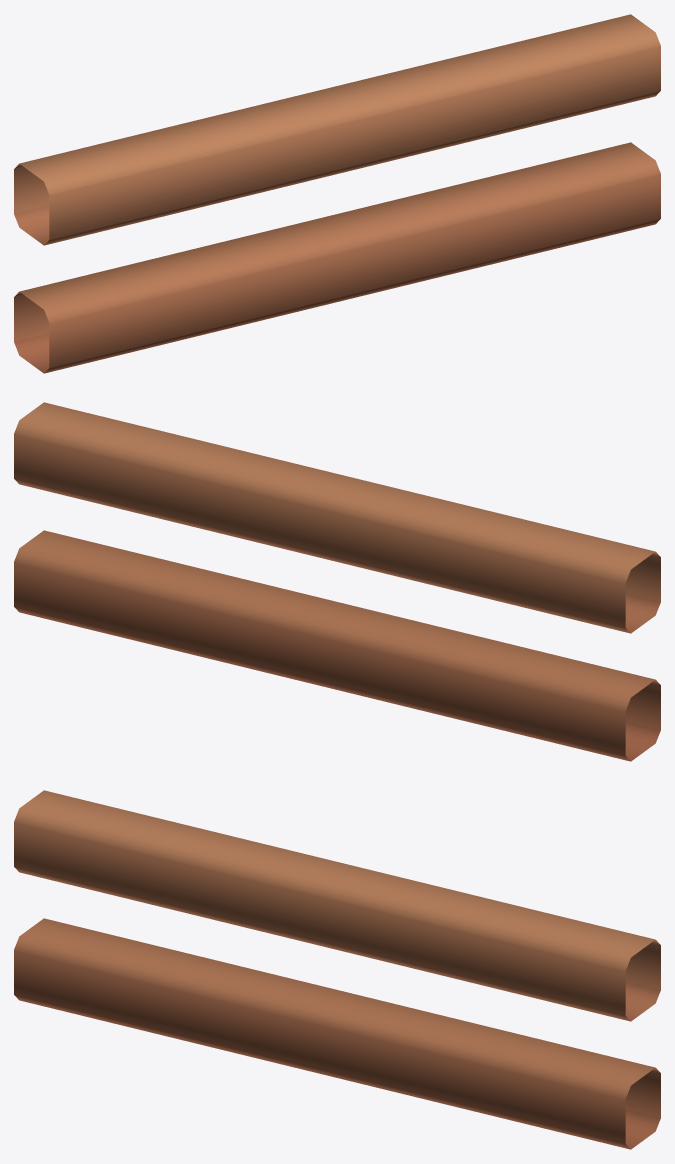
The model's file is fence_rails_long.fbx.
3 views of the same model, one above another, from view 1: azimuth 30°, elevation 25°; view 2: azimuth 150°, elevation 25°; view 3: azimuth 330°, elevation 25° (orthographic).
Visible parts, largest first — view 1: fence_rails_long; view 2: fence_rails_long; view 3: fence_rails_long.
Boxes of the visible parts, <box> form: fence_rails_long: <box>14,14,660,373</box>; fence_rails_long: <box>14,402,660,761</box>; fence_rails_long: <box>14,790,660,1149</box>.
Bounding box in the file's own units: 200 × 60 × 20.
